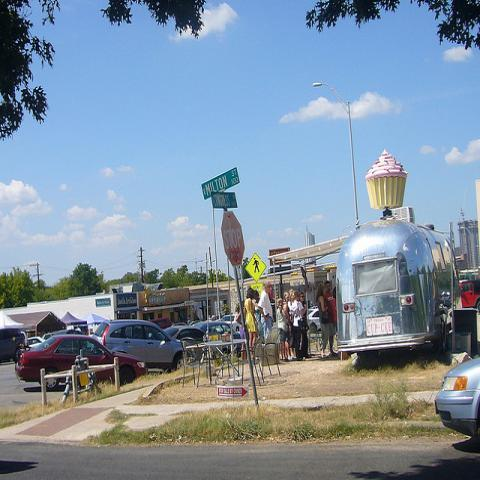bus: (335, 219, 460, 370)
car: (12, 334, 147, 390), (91, 320, 197, 374), (433, 355, 479, 446), (190, 320, 236, 341), (0, 328, 25, 363), (164, 326, 206, 346), (219, 314, 240, 332), (306, 308, 320, 332), (149, 316, 172, 329), (27, 336, 45, 350), (42, 332, 56, 340)
truck: (463, 280, 479, 316)
